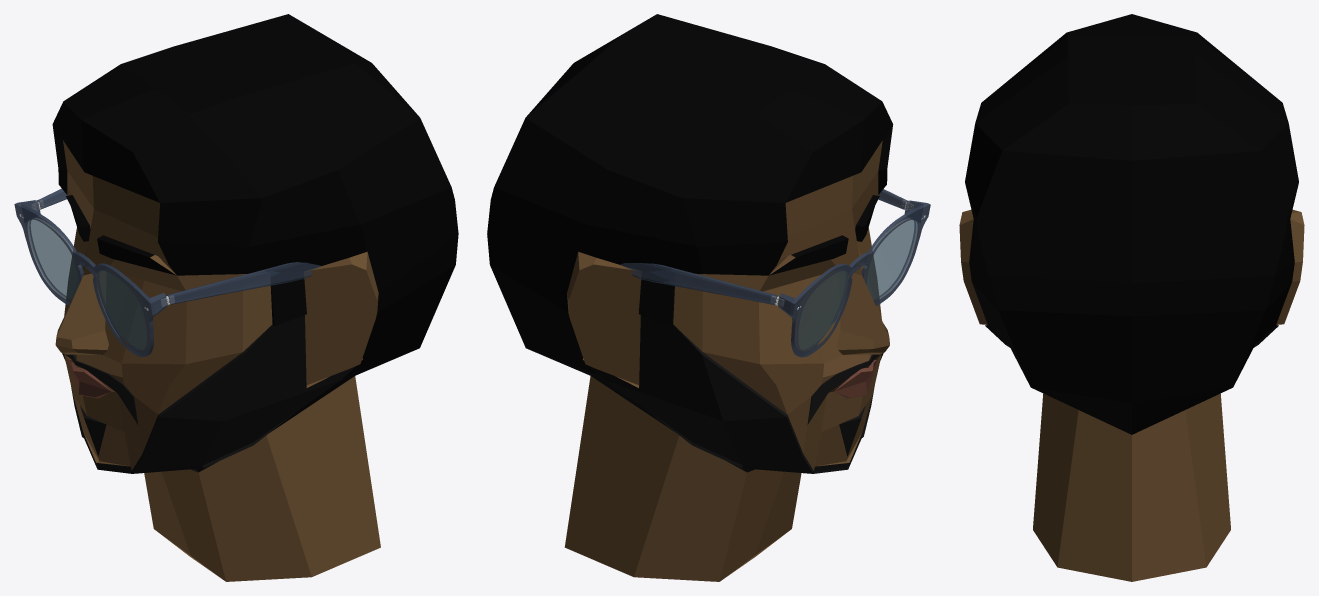
Rendered from Self-3d-website-1.glb.
The picture shows the model from 3 angles, left to right: view 1: azimuth 30°, elevation 25°; view 2: azimuth 150°, elevation 25°; view 3: azimuth 270°, elevation 25°; orthographic projection. The views are drawn at different scales.
Parts seen in each view (by area): view 1: Face-1, Glasses_Glasses_metal_0.001; view 2: Face-1, Glasses_Glasses_metal_0.001; view 3: Face-1.
Part boxes in pixels (left/top/right/bottom): Face-1: left=52, top=14, right=458, bottom=581; Glasses_Glasses_metal_0.001: left=14, top=188, right=320, bottom=356; Face-1: left=487, top=14, right=893, bottom=581; Glasses_Glasses_metal_0.001: left=620, top=189, right=930, bottom=357; Face-1: left=959, top=14, right=1304, bottom=581.
Size of the model in its own units: 5.86 by 7.91 by 5.41.
